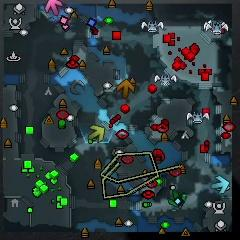x1: (44, 0, 63, 17)
x2: (88, 126, 105, 141)
x3: (211, 176, 229, 194)
x4: (170, 190, 187, 209)
x5: (115, 78, 135, 99)
